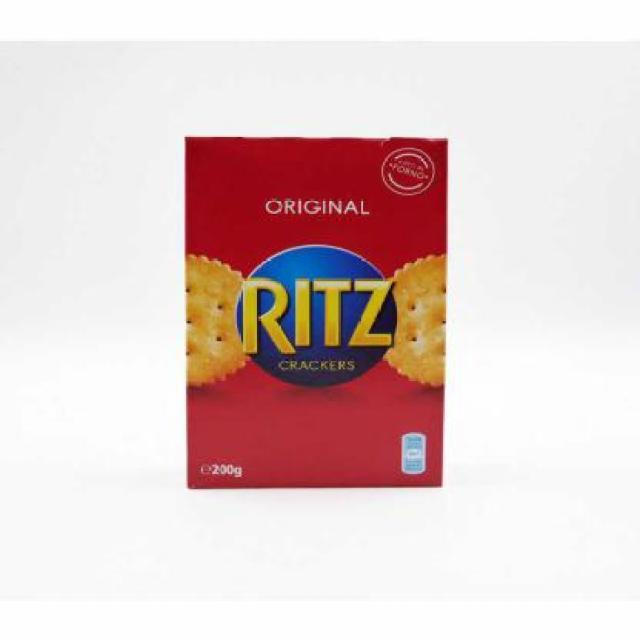Ritz cracker: (175, 126, 452, 499)
